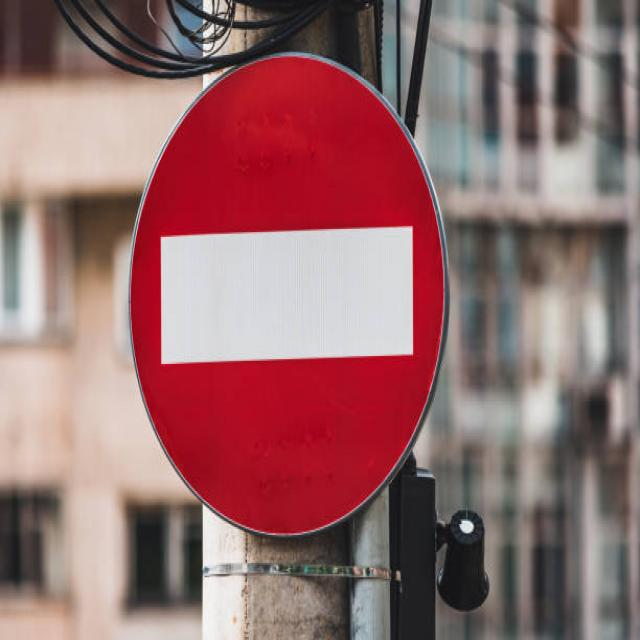do_not_enter: (118, 49, 484, 577)
